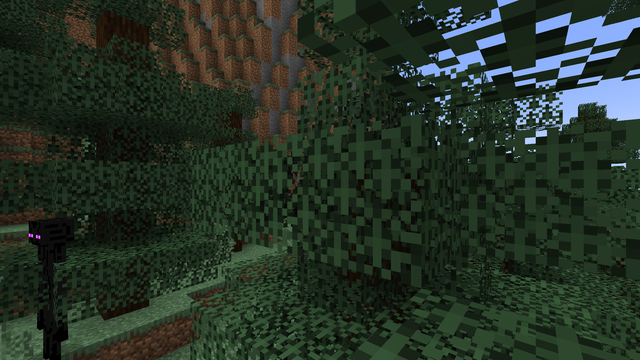endermens: (29, 214, 74, 359)
